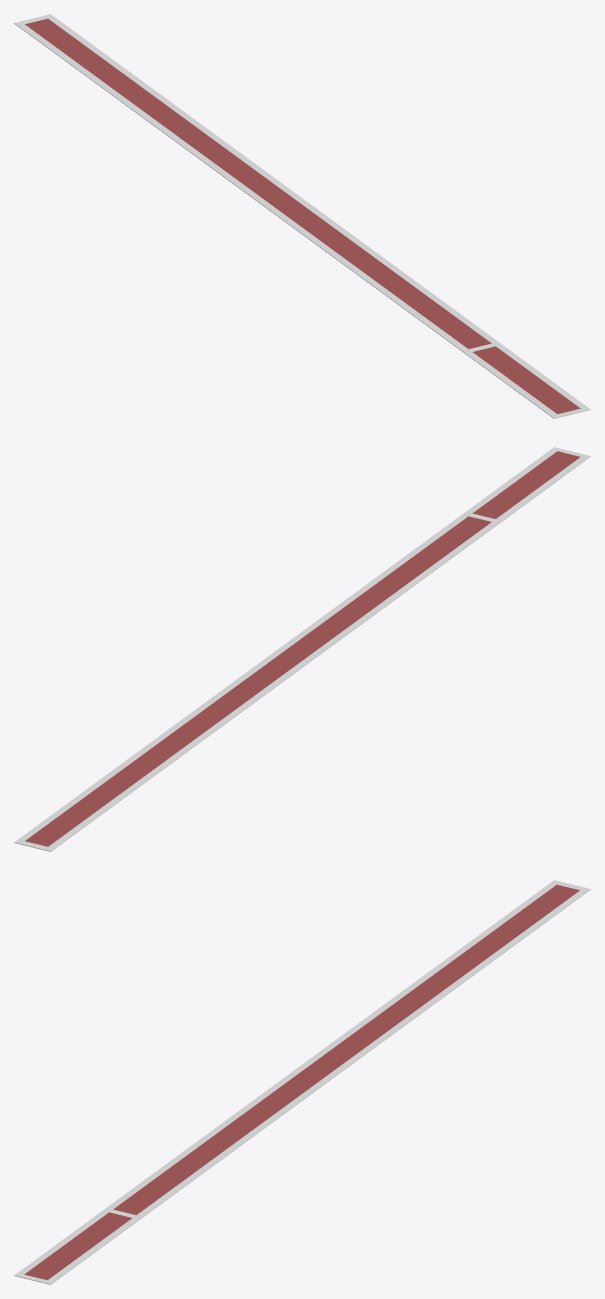
Rendered from Triple Jump Run.fbx.
3 renders of one model, top to bottom at view 1: azimuth 30°, elevation 25°; view 2: azimuth 150°, elevation 25°; view 3: azimuth 330°, elevation 25°, orthographic.
Visible parts, largest first — view 1: Triple Jump Run; view 2: Triple Jump Run; view 3: Triple Jump Run.
Boxes of the visible parts, x1=… form: Triple Jump Run: x1=14, y1=14, x2=590, y2=418; Triple Jump Run: x1=14, y1=447, x2=590, y2=851; Triple Jump Run: x1=14, y1=880, x2=590, y2=1284.
Size of the model in its own units: 810 by 10 by 20600.
